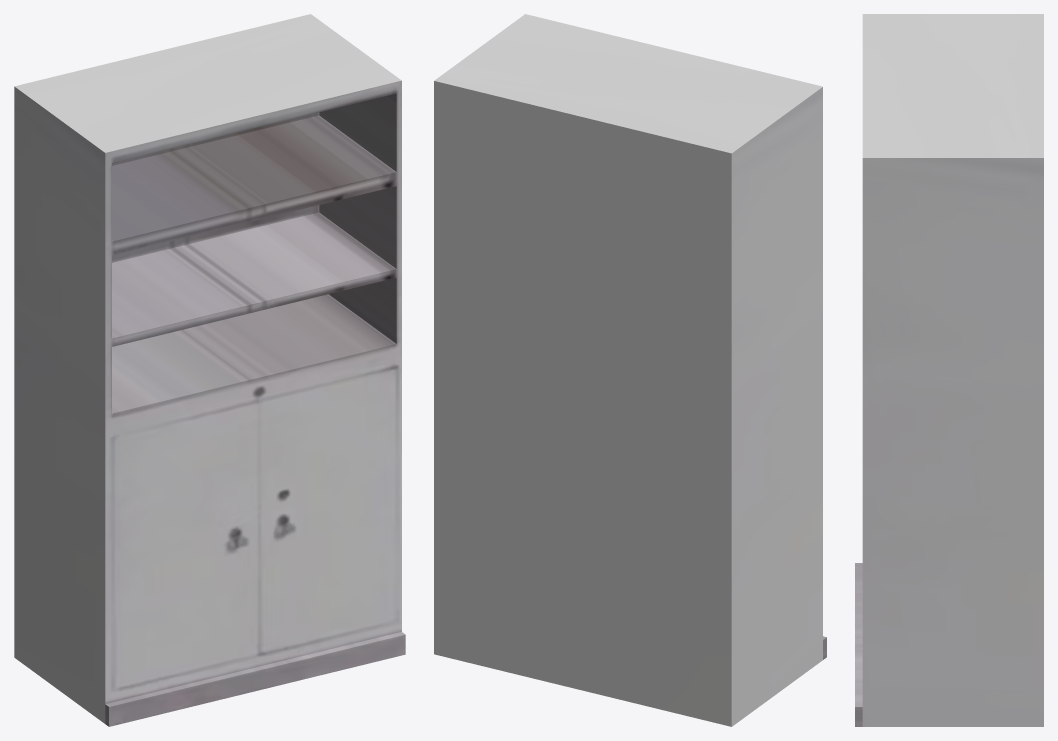
Rendered from armoir1.fbx.
The picture shows the model from 3 angles, left to right: view 1: azimuth 30°, elevation 25°; view 2: azimuth 150°, elevation 25°; view 3: azimuth 270°, elevation 25°; orthographic projection.
Visible parts, largest first — view 1: MSH_meuble1; view 2: MSH_meuble1; view 3: MSH_meuble1.
Part boxes in pixels (x1=…): MSH_meuble1: x1=14, y1=14, x2=405, y2=726; MSH_meuble1: x1=434, y1=14, x2=826, y2=726; MSH_meuble1: x1=855, y1=14, x2=1043, y2=726.
Bounding box in the file's own units: 10.89 × 20.04 × 6.03.
1 material, 1 textured.
